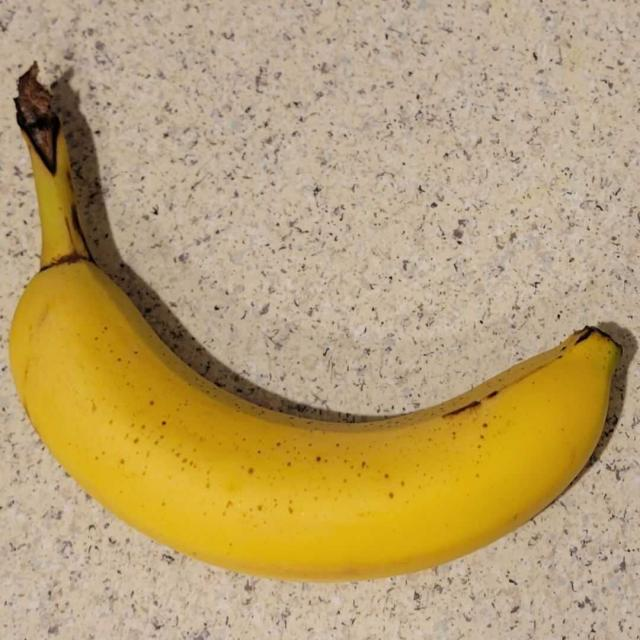banana: (7, 62, 623, 586)
